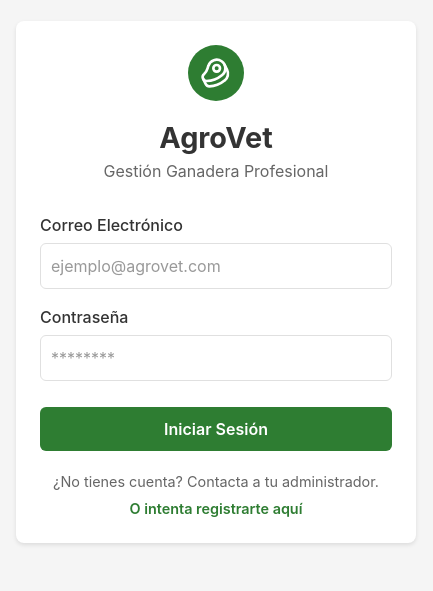
it: <LogIn /> — Mock + Happy Path + Error Handling › muestra el primer elemento del array errors cuando la API retorna { errors: string[] }
// Usamos fireEvent.change directamente para evitar el problema de userEvent.type con cadenas vacías
In the password field labelled "Contraseña": (216, 358) x1=40 y1=335 x2=392 y2=381, type "x"
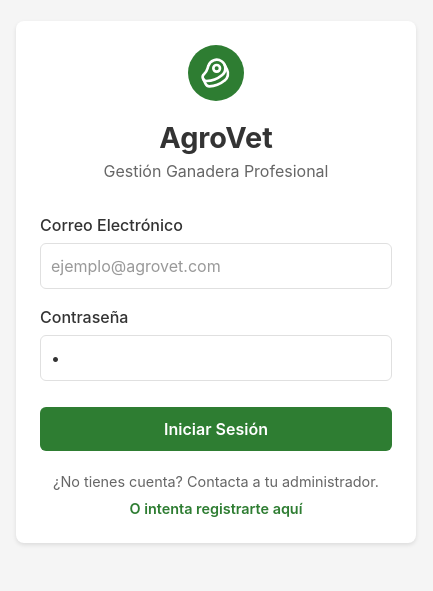
Submit the form from the button "Iniciar Sesión", box x1=40 y1=407 x2=392 y2=451
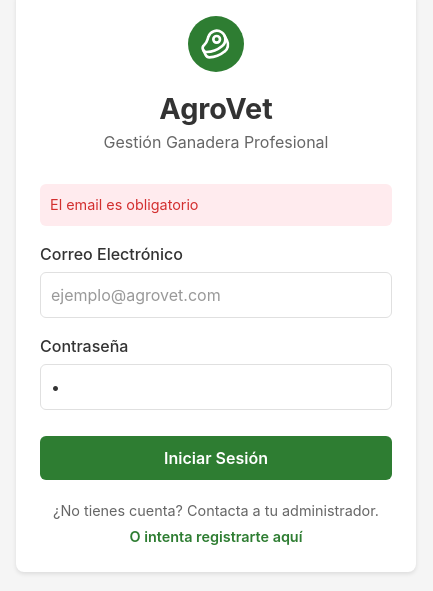
Result: the text "El email es obligatorio" is shown at x1=40 y1=184 x2=392 y2=226
